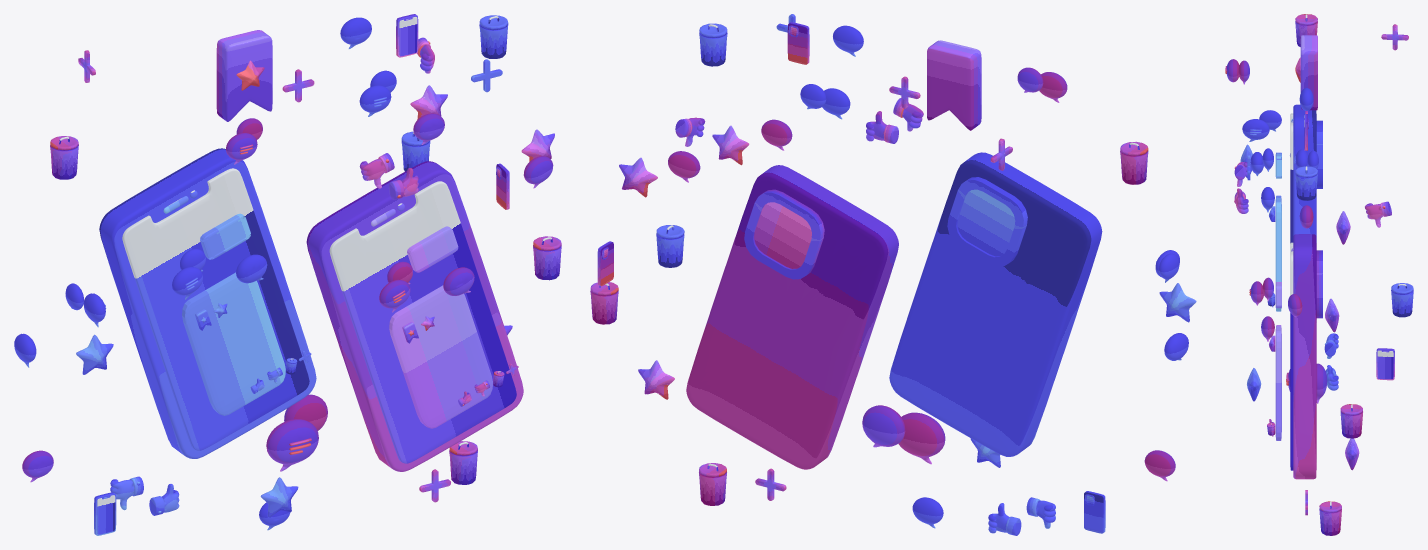
File: chat.glb
3 views of the same model, side by side, from view 1: azimuth 30°, elevation 25°; view 2: azimuth 150°, elevation 25°; view 3: azimuth 270°, elevation 25° (orthographic). The views are drawn at different scales.
Visible parts, largest first — view 1: mobilephone.003, mobilephone.001, Cube.003, Cube.001, Bookmark Star.003, Chat-Bubble.005, Cube.002, Cube.004, Chat-Bubble.001, Ttash Bin.005, Ttash Bin.007, Ttash Bin.004 (+19 smaller); view 2: mobilephone.001, mobilephone.003, mobilephone.002, mobilephone.004, Bookmark Star.003, Chat-Bubble.005, Chat-Bubble.003, Chat-Bubble.004, Ttash Bin.005, Ttash Bin.008, Ttash Bin.004, Ttash Bin.006 (+8 smaller); view 3: mobilephone.001, mobilephone.003, Bookmark Star.003, Cube.001, Chat-Bubble.006, Ttash Bin.008, Ttash Bin.005, Ttash Bin.006, Ttash Bin.007, Cube.003, mobilephone.007, Ttash Bin.004 (+22 smaller).
Boxes of the visible parts, x1,y1,x2,y2 form: mobilephone.003: [99, 148, 316, 458]; mobilephone.001: [306, 161, 523, 471]; Cube.003: [182, 272, 285, 415]; Cube.001: [389, 285, 492, 428]; Bookmark Star.003: [216, 30, 272, 121]; Chat-Bubble.005: [266, 394, 327, 471]; Cube.002: [407, 226, 458, 272]; Cube.004: [200, 213, 250, 259]; Chat-Bubble.001: [379, 261, 412, 312]; Ttash Bin.005: [479, 15, 508, 58]; Ttash Bin.007: [533, 236, 561, 280]; Ttash Bin.004: [50, 136, 78, 179]; mobilephone.001: [686, 165, 898, 469]; mobilephone.003: [889, 152, 1102, 456]; mobilephone.002: [744, 189, 824, 279]; mobilephone.004: [947, 177, 1027, 266]; Bookmark Star.003: [927, 40, 981, 130]; Chat-Bubble.005: [862, 405, 945, 464]; Chat-Bubble.003: [1017, 67, 1067, 102]; Chat-Bubble.004: [800, 84, 850, 119]; Ttash Bin.005: [699, 23, 727, 66]; Ttash Bin.008: [656, 225, 684, 267]; Ttash Bin.004: [1120, 141, 1148, 184]; Ttash Bin.006: [699, 463, 726, 505]; mobilephone.001: [1290, 234, 1316, 479]; mobilephone.003: [1290, 104, 1316, 243]; Bookmark Star.003: [1295, 35, 1317, 110]; Cube.001: [1275, 325, 1281, 440]; Chat-Bubble.006: [1242, 110, 1281, 141]; Ttash Bin.008: [1391, 283, 1413, 317]; Ttash Bin.005: [1295, 166, 1317, 200]; Ttash Bin.006: [1319, 501, 1341, 535]; Ttash Bin.007: [1340, 404, 1362, 438]; Cube.003: [1275, 195, 1281, 311]; mobilephone.007: [1376, 348, 1394, 380]; Ttash Bin.004: [1295, 14, 1317, 46].
Bounding box in the file's own units: 3.05 × 2.59 × 1.1.
2 materials, 2 textured.
